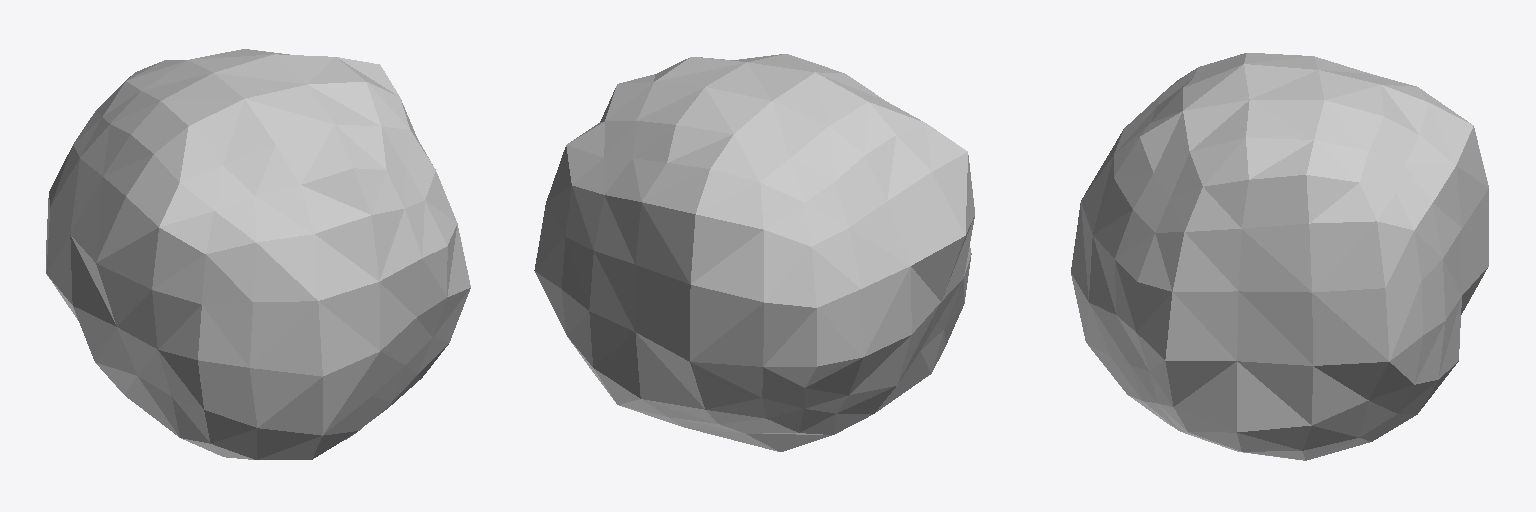
The model's file is rock4.obj.
3 renders of one model, left to right at view 1: azimuth 30°, elevation 25°; view 2: azimuth 150°, elevation 25°; view 3: azimuth 270°, elevation 25°, orthographic.
Parts seen in each view (by area): view 1: rock_d_06; view 2: rock_d_06; view 3: rock_d_06.
Boxes of the visible parts, x1=… form: rock_d_06: x1=46, y1=49, x2=470, y2=459; rock_d_06: x1=534, y1=54, x2=974, y2=451; rock_d_06: x1=1071, y1=53, x2=1488, y2=460.
Size of the model in its own units: 2.22 by 2.1 by 2.25.